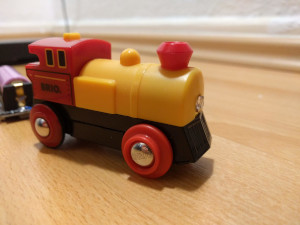brio: (24, 32, 214, 181)
